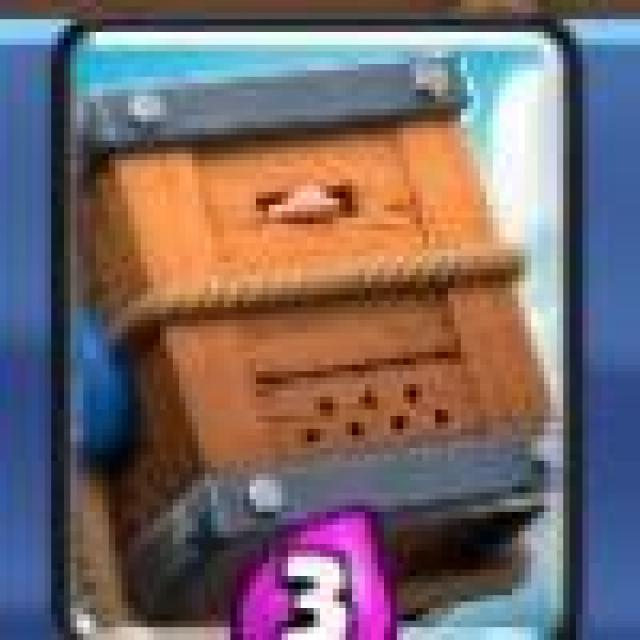Royal_Delivery: (55, 18, 579, 640)
